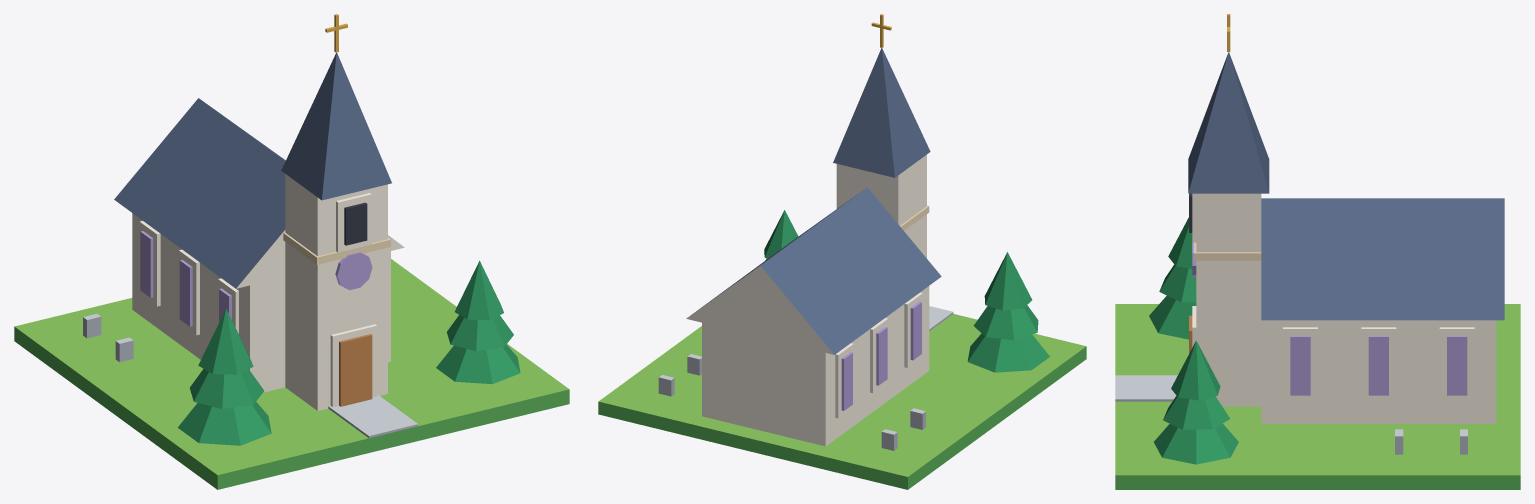
Rendered from public_church.glb.
3 views of the same model, side by side, from view 1: azimuth 30°, elevation 25°; view 2: azimuth 150°, elevation 25°; view 3: azimuth 270°, elevation 25° (orthographic). The views are drawn at different scales.
Parts seen in each view (by area): view 1: public_church; view 2: public_church; view 3: public_church.
Boxes of the visible parts, x1=… form: public_church: x1=14, y1=14, x2=569, y2=489; public_church: x1=598, y1=14, x2=1086, y2=489; public_church: x1=1115, y1=14, x2=1520, y2=489.
Bounding box in the file's own units: 1 × 1.06 × 1.
